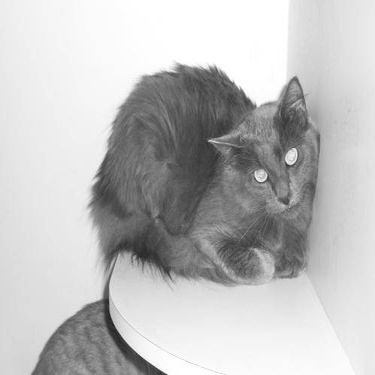cat: (91, 60, 320, 285)
